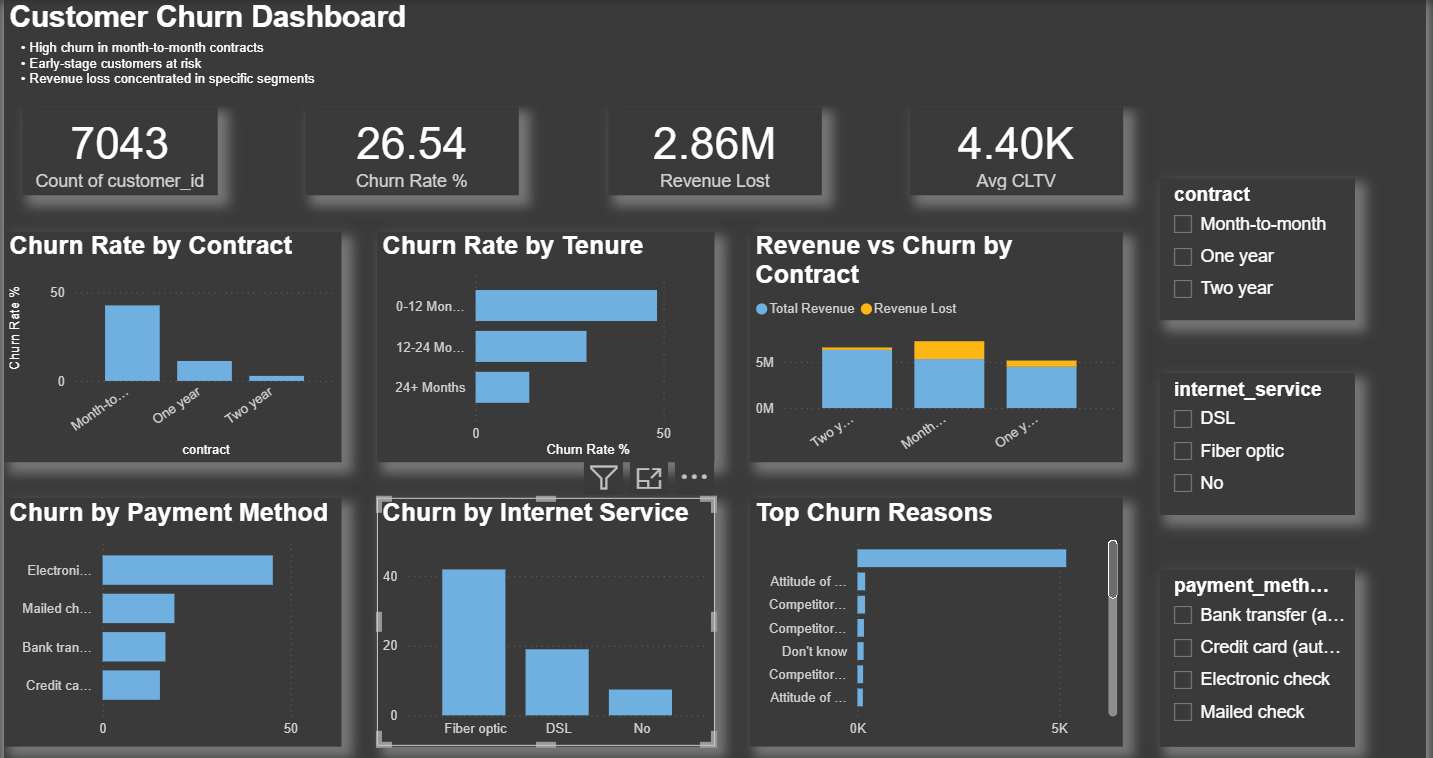

This screenshot's page, from the dashboard's own definition file:
{"tool":"powerbi","page":{"name":"Page 1","canvas":[1280,720],"ordinal":0},"visuals":[{"type":"card","fields":{"Values":["CountNonNull(churn_cleaned.customer_id)"]},"box":[16,96,176,80],"z":0},{"type":"card","fields":{"Values":["churn_cleaned.Churn Rate %"]},"box":[272,96,192,80],"z":1000},{"type":"card","fields":{"Values":["churn_cleaned.Revenue Lost"]},"box":[544,96,192,80],"z":2000},{"type":"card","fields":{"Values":["churn_cleaned.Avg CLTV"]},"box":[816,96,192,80],"z":3000},{"type":"clusteredColumnChart","title":"Churn Rate by Contract","fields":{"Category":["churn_cleaned.contract"],"Y":["churn_cleaned.Churn Rate %"]},"box":[0,208,304,208],"z":4000},{"type":"clusteredBarChart","title":"Churn Rate by Tenure","fields":{"Y":["churn_cleaned.Churn Rate %"],"Category":["churn_cleaned.Tenure Group"]},"box":[336,208,304,208],"z":5000},{"type":"columnChart","title":"Revenue vs Churn by Contract","fields":{"Category":["churn_cleaned.contract"],"Y":["churn_cleaned.Total Revenue","churn_cleaned.Revenue Lost"]},"box":[672,208,336,208],"z":6000},{"type":"clusteredBarChart","title":"Churn by Payment Method","fields":{"Category":["churn_cleaned.payment_method"],"Y":["churn_cleaned.Churn Rate %"]},"box":[0,448,304,224],"z":7000},{"type":"clusteredColumnChart","title":"Churn by Internet Service","fields":{"Category":["churn_cleaned.internet_service"],"Y":["churn_cleaned.Churn Rate %"]},"box":[336,448,304,224],"z":8000},{"type":"clusteredBarChart","title":"Top Churn Reasons","fields":{"Category":["churn_cleaned.churn_reason"],"Y":["CountNonNull(churn_cleaned.customer_id)"]},"box":[672,448,336,224],"z":9000},{"type":"slicer","fields":{"Values":["churn_cleaned.contract"]},"box":[1040,160,176,128],"z":10000},{"type":"slicer","fields":{"Values":["churn_cleaned.internet_service"]},"box":[1040,336,176,128],"z":11000},{"type":"slicer","fields":{"Values":["churn_cleaned.payment_method"]},"box":[1040,512,176,160],"z":12000},{"type":"textbox","title":"Customer Churn Dashboard","box":[0,0,1280,32],"z":13000},{"type":"textbox","box":[0,32,1280,64],"z":14000}]}

Visuals, with their boxes on the page's 1280x720 design canvas (x1, y1, x2, y2). These are canvas units, not pixel positions in the 1433x758 screenshot, which may show the page scaled, cropped or inside an application window:
card - CountNonNull(churn_cleaned.customer_id): 16/96/192/176
card - churn_cleaned.Churn Rate %: 272/96/464/176
card - churn_cleaned.Revenue Lost: 544/96/736/176
card - churn_cleaned.Avg CLTV: 816/96/1008/176
"Churn Rate by Contract" clusteredColumnChart: 0/208/304/416
"Churn Rate by Tenure" clusteredBarChart: 336/208/640/416
"Revenue vs Churn by Contract" columnChart: 672/208/1008/416
"Churn by Payment Method" clusteredBarChart: 0/448/304/672
"Churn by Internet Service" clusteredColumnChart: 336/448/640/672
"Top Churn Reasons" clusteredBarChart: 672/448/1008/672
slicer - churn_cleaned.contract: 1040/160/1216/288
slicer - churn_cleaned.internet_service: 1040/336/1216/464
slicer - churn_cleaned.payment_method: 1040/512/1216/672
"Customer Churn Dashboard" textbox: 0/0/1280/32
textbox: 0/32/1280/96
